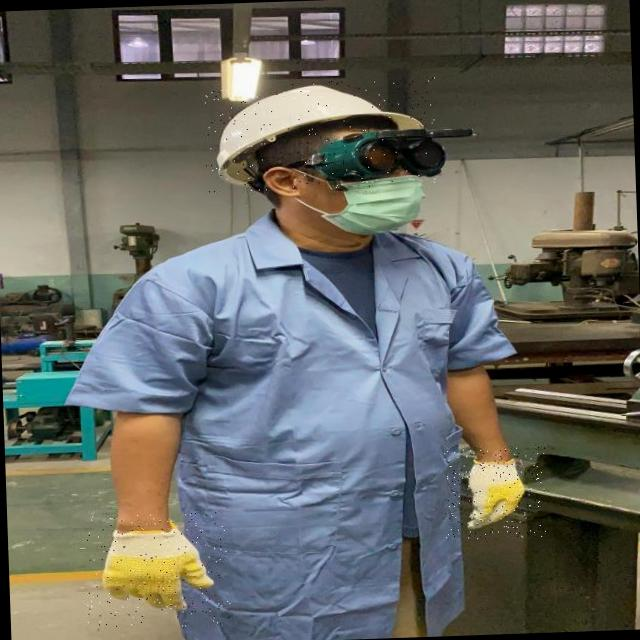gloves: (89, 498, 229, 612), (469, 427, 547, 534)
helmet: (202, 76, 438, 192)
no-vest: (144, 188, 476, 640)
